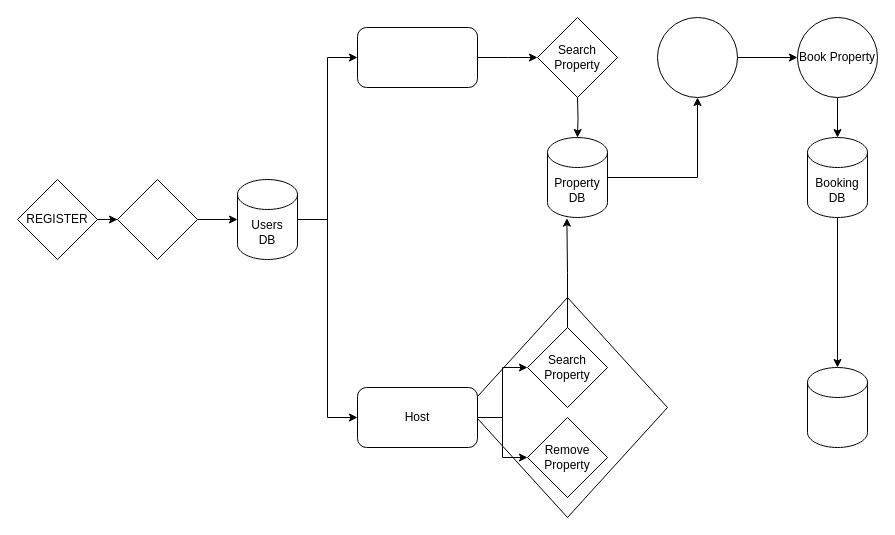
This 895x535 diagram has some shape labels left out. The shapes that lost their labels are listed below. From the top down, each one's centre as x and y in pixels, then its label:
[417,57]: Guest
[697,57]: Property Details
[157,219]: Login / Auth
[837,407]: Payment DB
